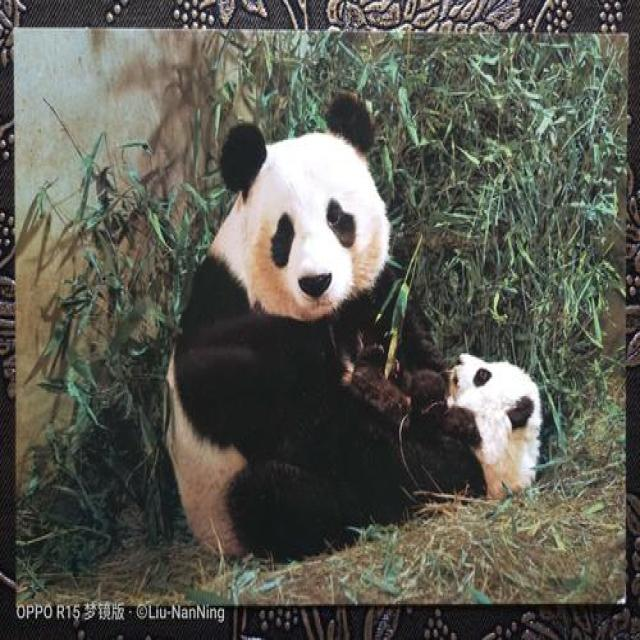panda: (148, 91, 548, 553)
